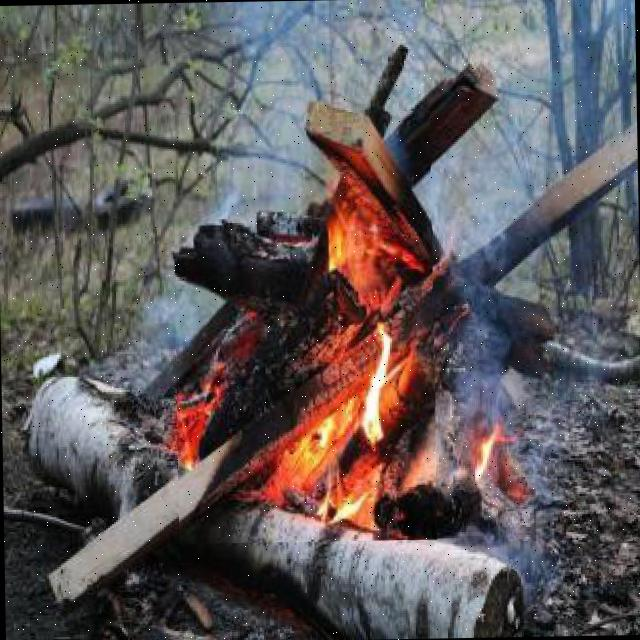fire: (172, 111, 436, 544)
